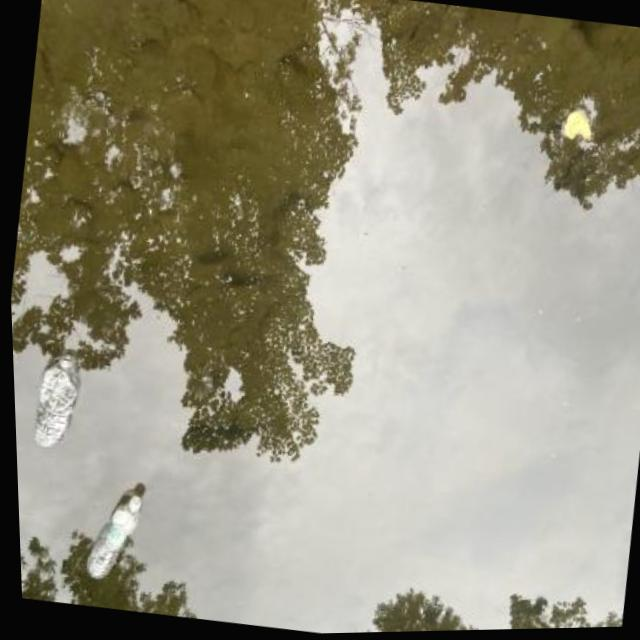Plastic: (66, 482, 151, 595), (15, 343, 87, 460)
